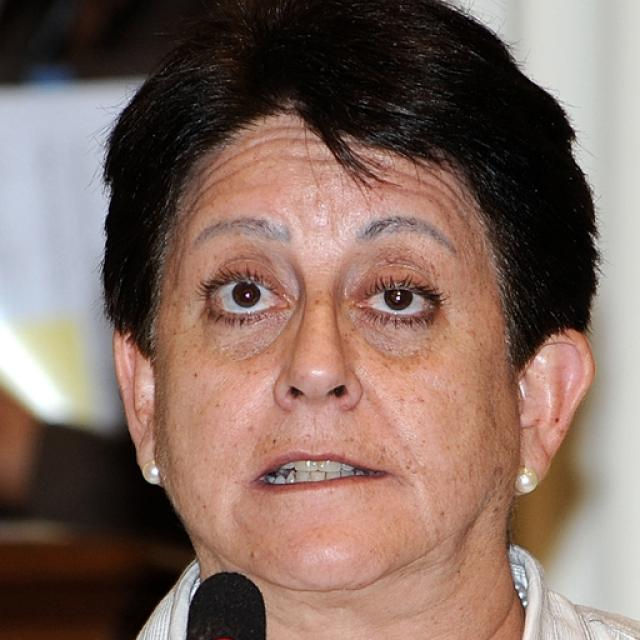Pigmentation: (249, 427, 431, 476), (341, 322, 452, 375), (222, 335, 297, 380), (478, 460, 516, 515), (304, 285, 342, 317)
